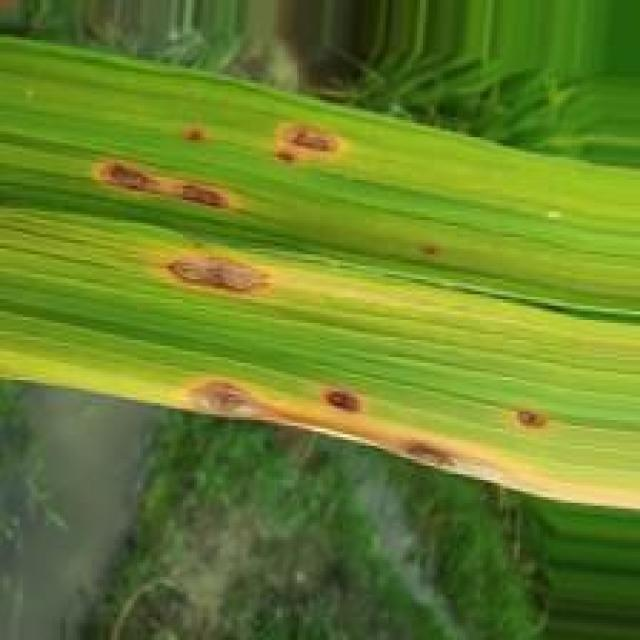Brown_Spot: (166, 370, 515, 485), (87, 157, 247, 211), (148, 253, 285, 302), (270, 114, 347, 172), (506, 399, 550, 440), (175, 125, 207, 146), (416, 239, 444, 261)
